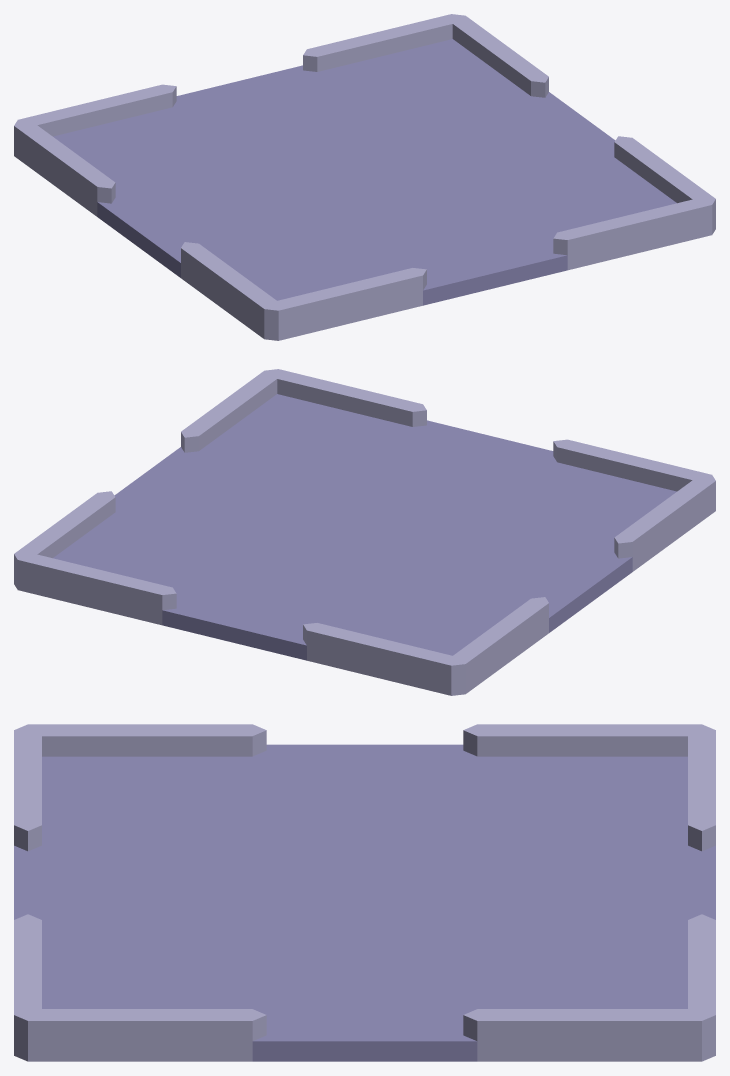
File: hub1.fbx
3 views of the same model, one above another, from view 1: azimuth 30°, elevation 25°; view 2: azimuth 150°, elevation 25°; view 3: azimuth 270°, elevation 25° (orthographic). The views are drawn at different scales.
Visible parts, largest first — view 1: mergedBlocks; view 2: mergedBlocks; view 3: mergedBlocks.
Boxes of the visible parts, <box> form: mergedBlocks: <box>14,14,715,340</box>; mergedBlocks: <box>14,369,715,695</box>; mergedBlocks: <box>14,724,715,1061</box>.
Bounding box in the file's own units: 31.25 × 2 × 31.25.
